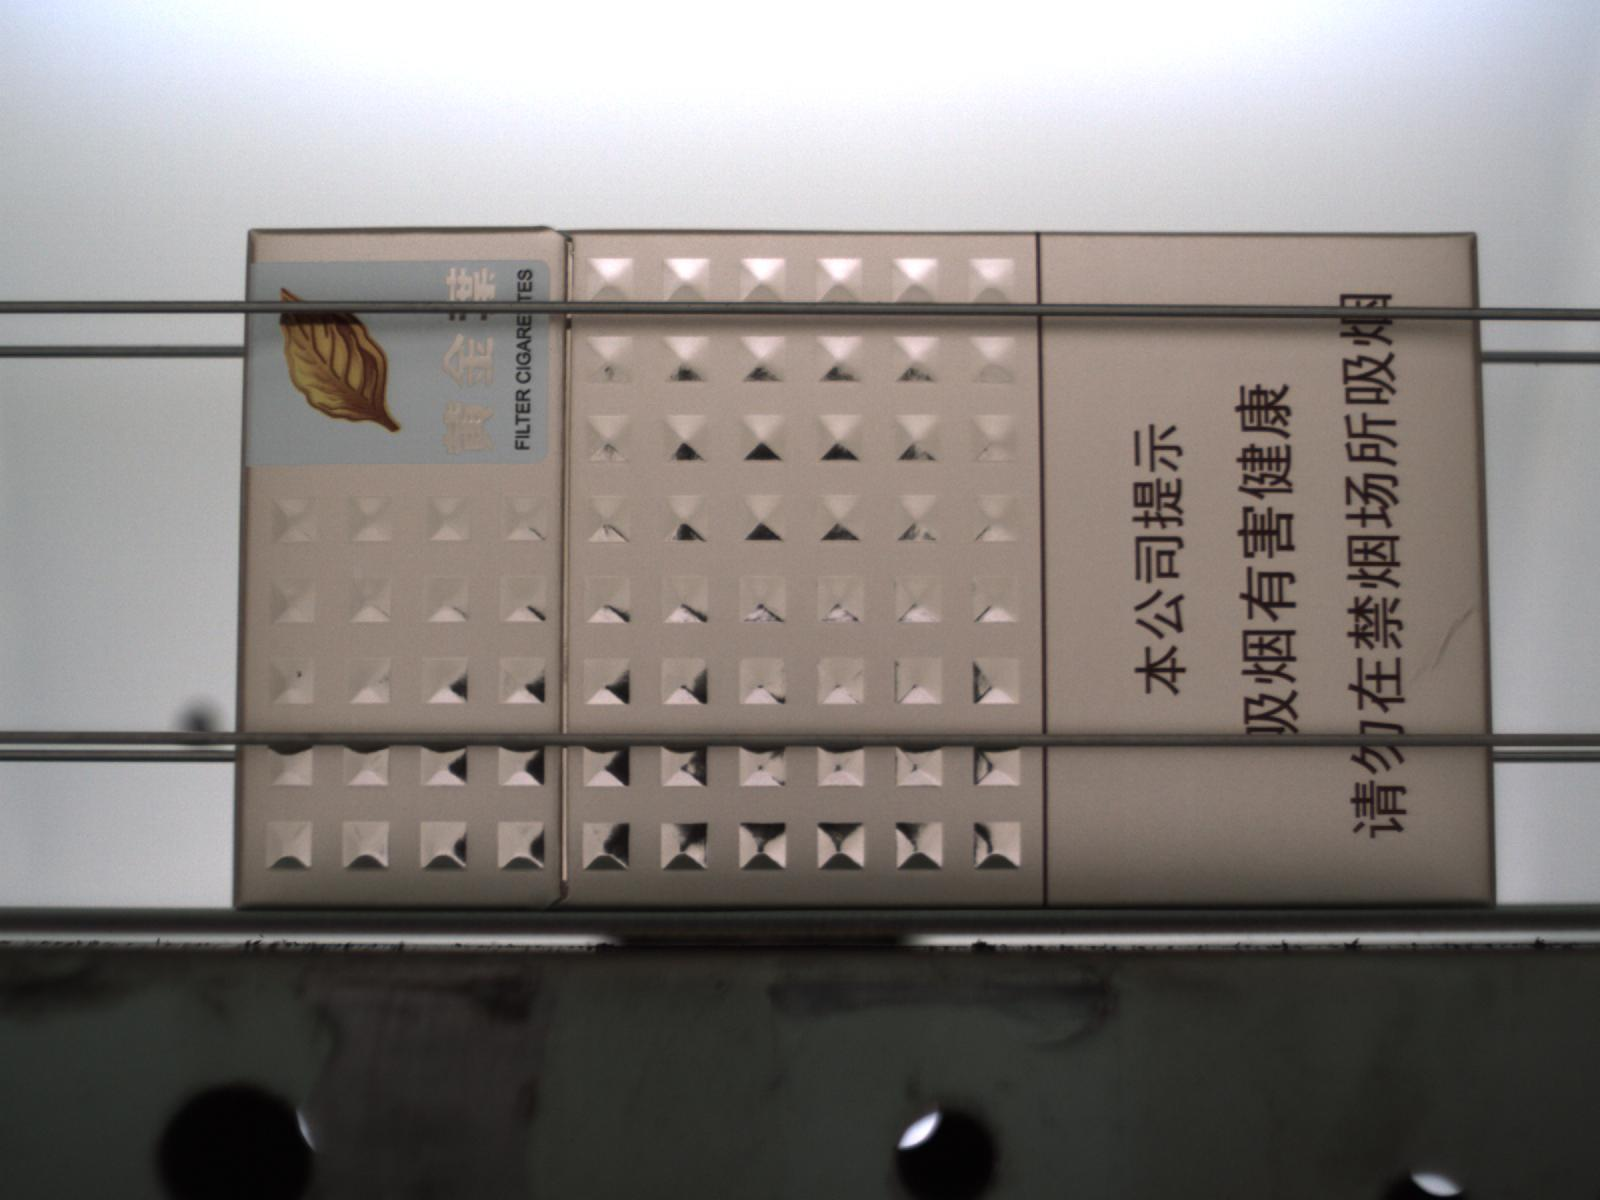crease: (1405, 599, 1478, 692)
skewed_upper_0: (1407, 603, 1480, 687)
